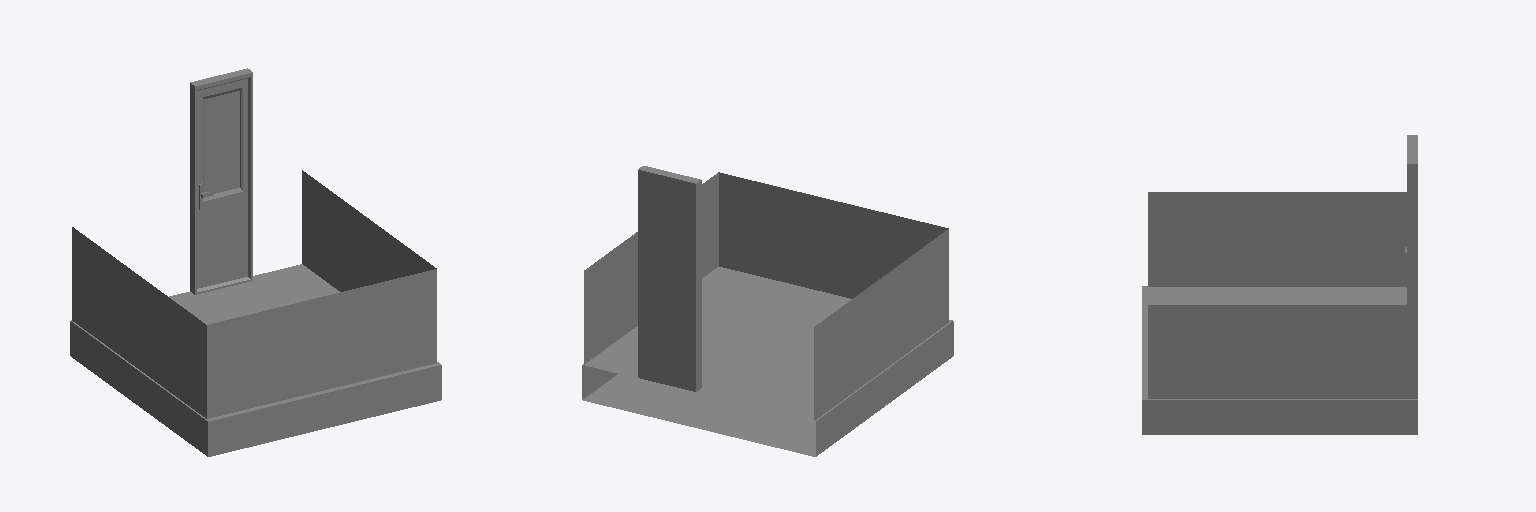
Rendered from balcony1.obj.
3 views of the same model, side by side, from view 1: azimuth 30°, elevation 25°; view 2: azimuth 150°, elevation 25°; view 3: azimuth 270°, elevation 25° (orthographic).
Parts seen in each view (by area): view 1: Object003; view 2: Object003; view 3: Object003.
Part boxes in pixels (bbox=[...]): Object003: bbox=[70, 68, 441, 456]; Object003: bbox=[582, 166, 953, 456]; Object003: bbox=[1142, 135, 1417, 434].
Size of the model in its own units: 12.8 by 12.8 by 13.12.